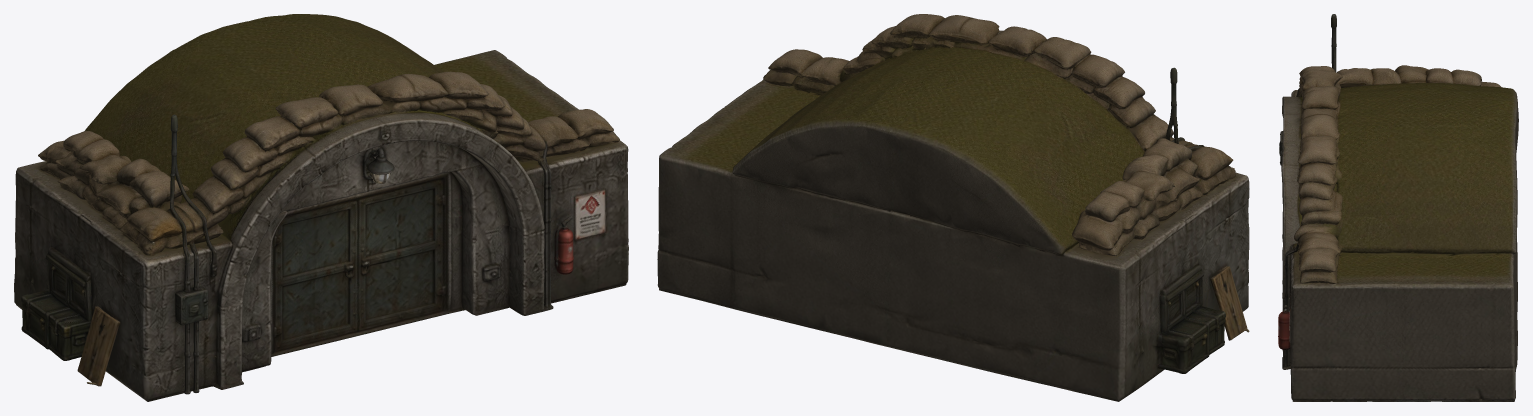
The model's file is bunker_hangar.glb.
The picture shows the model from 3 angles, left to right: view 1: azimuth 30°, elevation 25°; view 2: azimuth 150°, elevation 25°; view 3: azimuth 270°, elevation 25°; orthographic projection. The views are drawn at different scales.
Visible parts, largest first — view 1: bunker_hangar; view 2: bunker_hangar; view 3: bunker_hangar.
Boxes of the visible parts, x1,y1,x2,y2 form: bunker_hangar: (14,14,628,401); bunker_hangar: (657,14,1249,401); bunker_hangar: (1278,14,1518,401).
Bounding box in the file's own units: 1.9 × 0.9045 × 0.923.
1 material, 1 textured.
